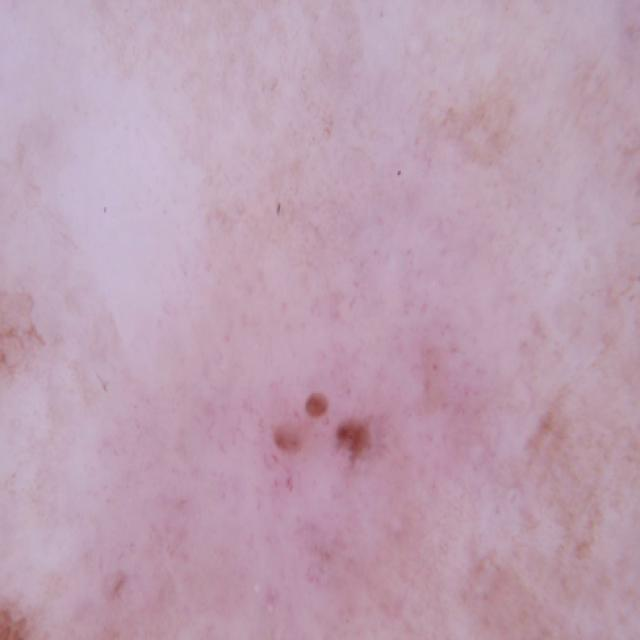Carcinoma: (275, 313, 418, 533)
